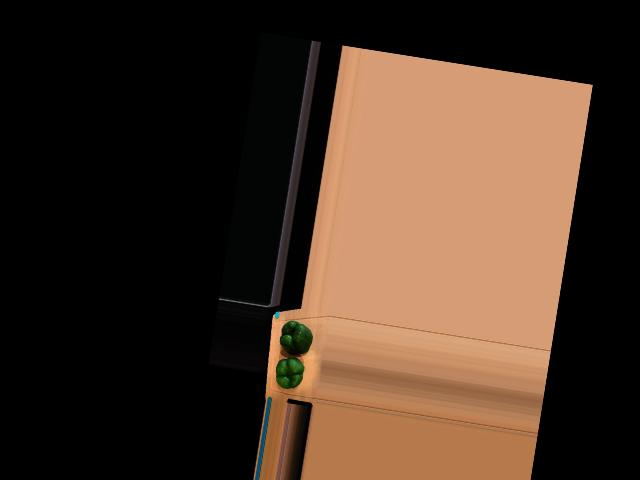bell_pepper: (272, 354, 309, 391)
